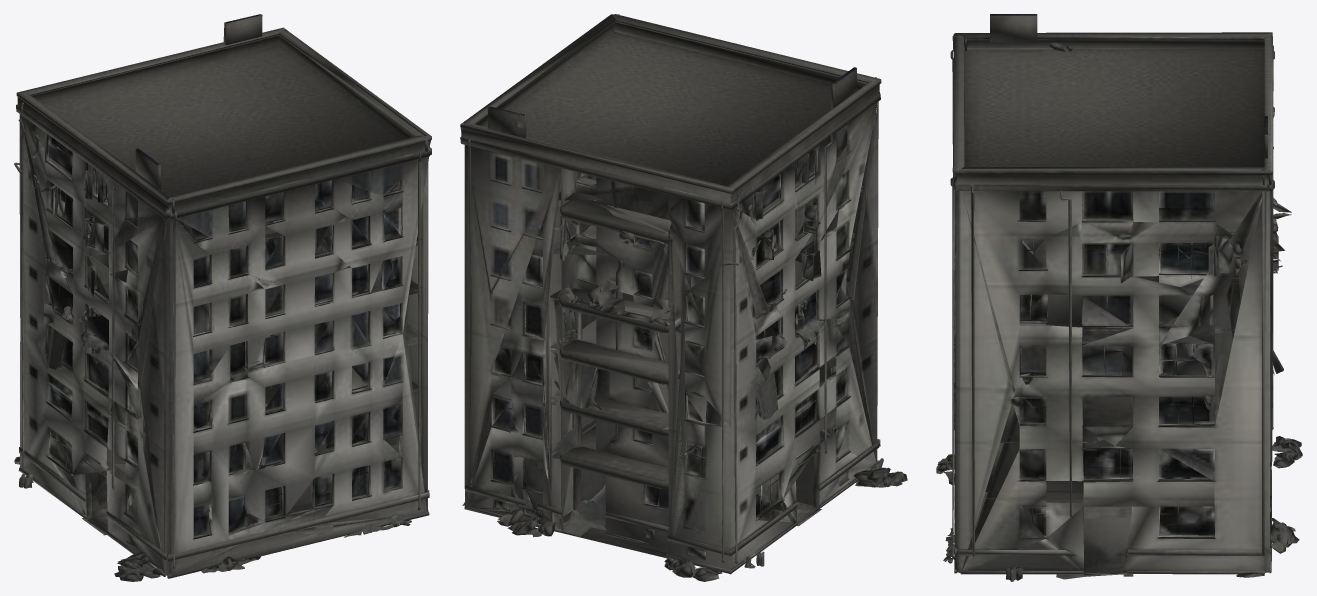
Rendered from office-ruined-midrise.glb.
3 renders of one model, left to right at view 1: azimuth 30°, elevation 25°; view 2: azimuth 150°, elevation 25°; view 3: azimuth 270°, elevation 25°, orthographic. The views are drawn at different scales.
Parts seen in each view (by area): view 1: ruined-midrise; view 2: ruined-midrise; view 3: ruined-midrise.
Boxes of the visible parts, x1,y1,x2,y2 form: ruined-midrise: (14,14,431,581); ruined-midrise: (460,14,907,581); ruined-midrise: (936,14,1302,581).
Bounding box in the file's own units: 24.65 × 30 × 23.25.
Materials: 1 (1 with a texture image).
